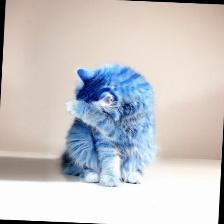kedo: (65, 66, 153, 187)
